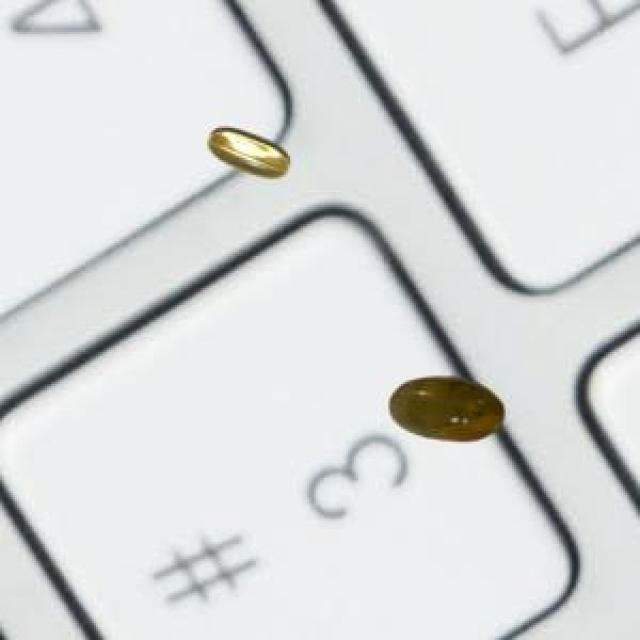Fish_Oil: (377, 356, 522, 456), (201, 113, 300, 184)
